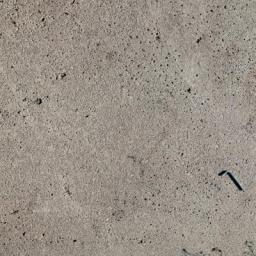FOD: (219, 167, 247, 194)
